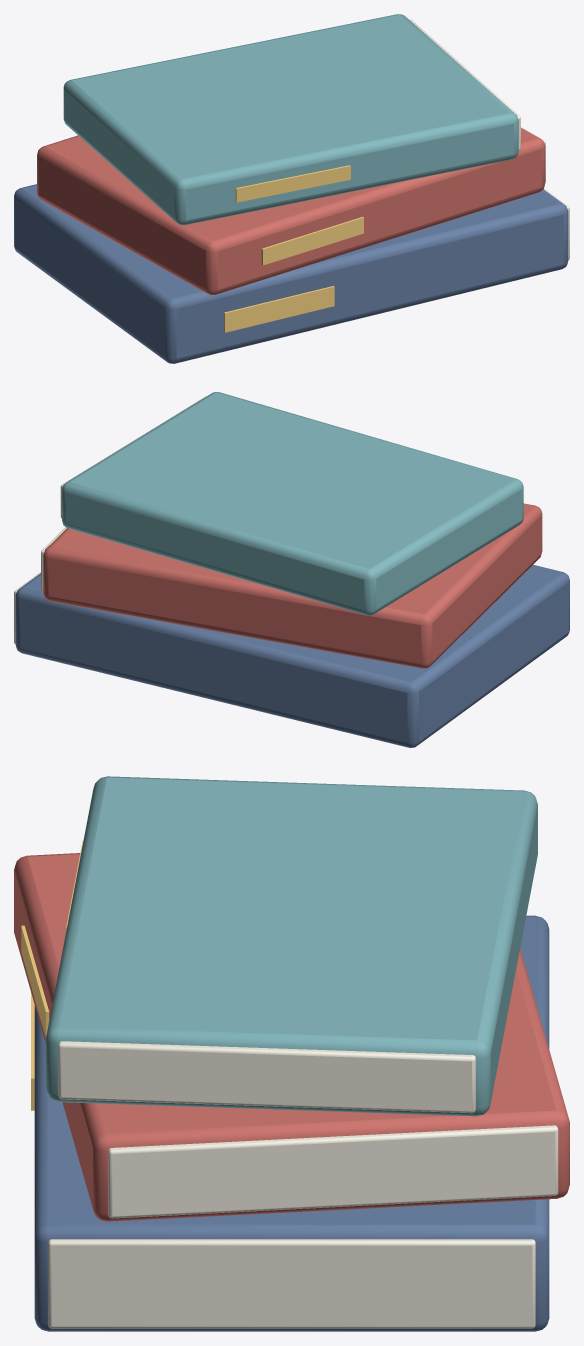
Rendered from paper_books.glb.
The picture shows the model from 3 angles, top to bottom: view 1: azimuth 30°, elevation 25°; view 2: azimuth 150°, elevation 25°; view 3: azimuth 270°, elevation 25°; orthographic projection. The views are drawn at different scales.
Parts seen in each view (by area): view 1: book2_cover_teal, book0_cover_book_navy, book1_cover_book_red, book0_title_amber, book1_title_amber, book2_title_amber; view 2: book2_cover_teal, book0_cover_book_navy, book1_cover_book_red; view 3: book2_cover_teal, book0_pages_paper, book1_pages_paper, book1_cover_book_red, book0_cover_book_navy, book2_pages_paper, book1_title_amber.
Part boxes in pixels (left/top/right/bottom): book2_cover_teal: left=63, top=14, right=518, bottom=225; book0_cover_book_navy: left=14, top=184, right=568, bottom=363; book1_cover_book_red: left=37, top=127, right=545, bottom=294; book0_title_amber: left=224, top=286, right=334, bottom=332; book1_title_amber: left=261, top=217, right=363, bottom=265; book2_title_amber: left=235, top=165, right=350, bottom=202; book2_cover_teal: left=62, top=392, right=523, bottom=615; book0_cover_book_navy: left=15, top=565, right=569, bottom=747; book1_cover_book_red: left=43, top=503, right=542, bottom=668; book2_cover_teal: left=46, top=776, right=537, bottom=1116; book0_pages_paper: left=48, top=1239, right=535, bottom=1328; book1_pages_paper: left=108, top=1125, right=558, bottom=1218; book1_cover_book_red: left=14, top=853, right=569, bottom=1221; book0_cover_book_navy: left=34, top=915, right=549, bottom=1331; book2_pages_paper: left=58, top=1041, right=475, bottom=1113; book1_title_amber: left=21, top=925, right=49, bottom=1037.
Bounding box in the file's own units: 0.222 × 0.086 × 0.162.
